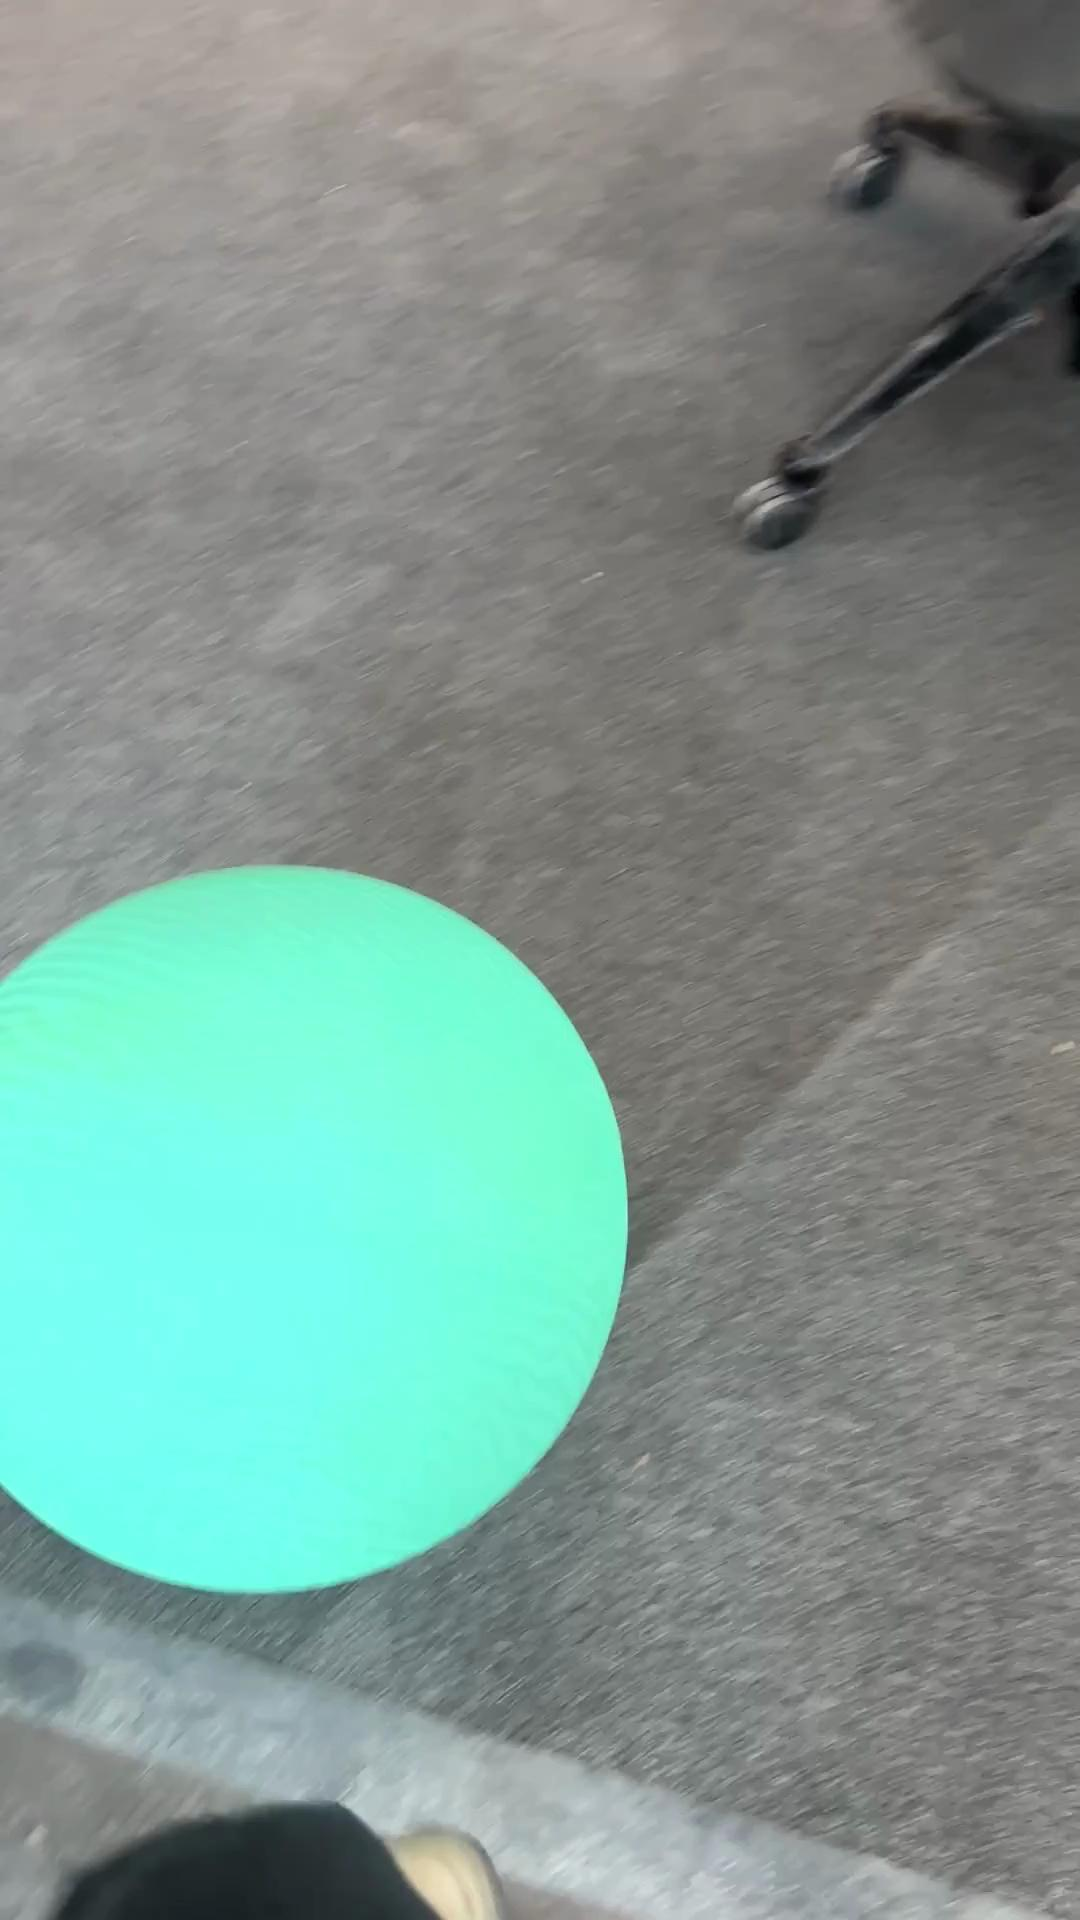ALGAE: (1, 861, 630, 1594)
